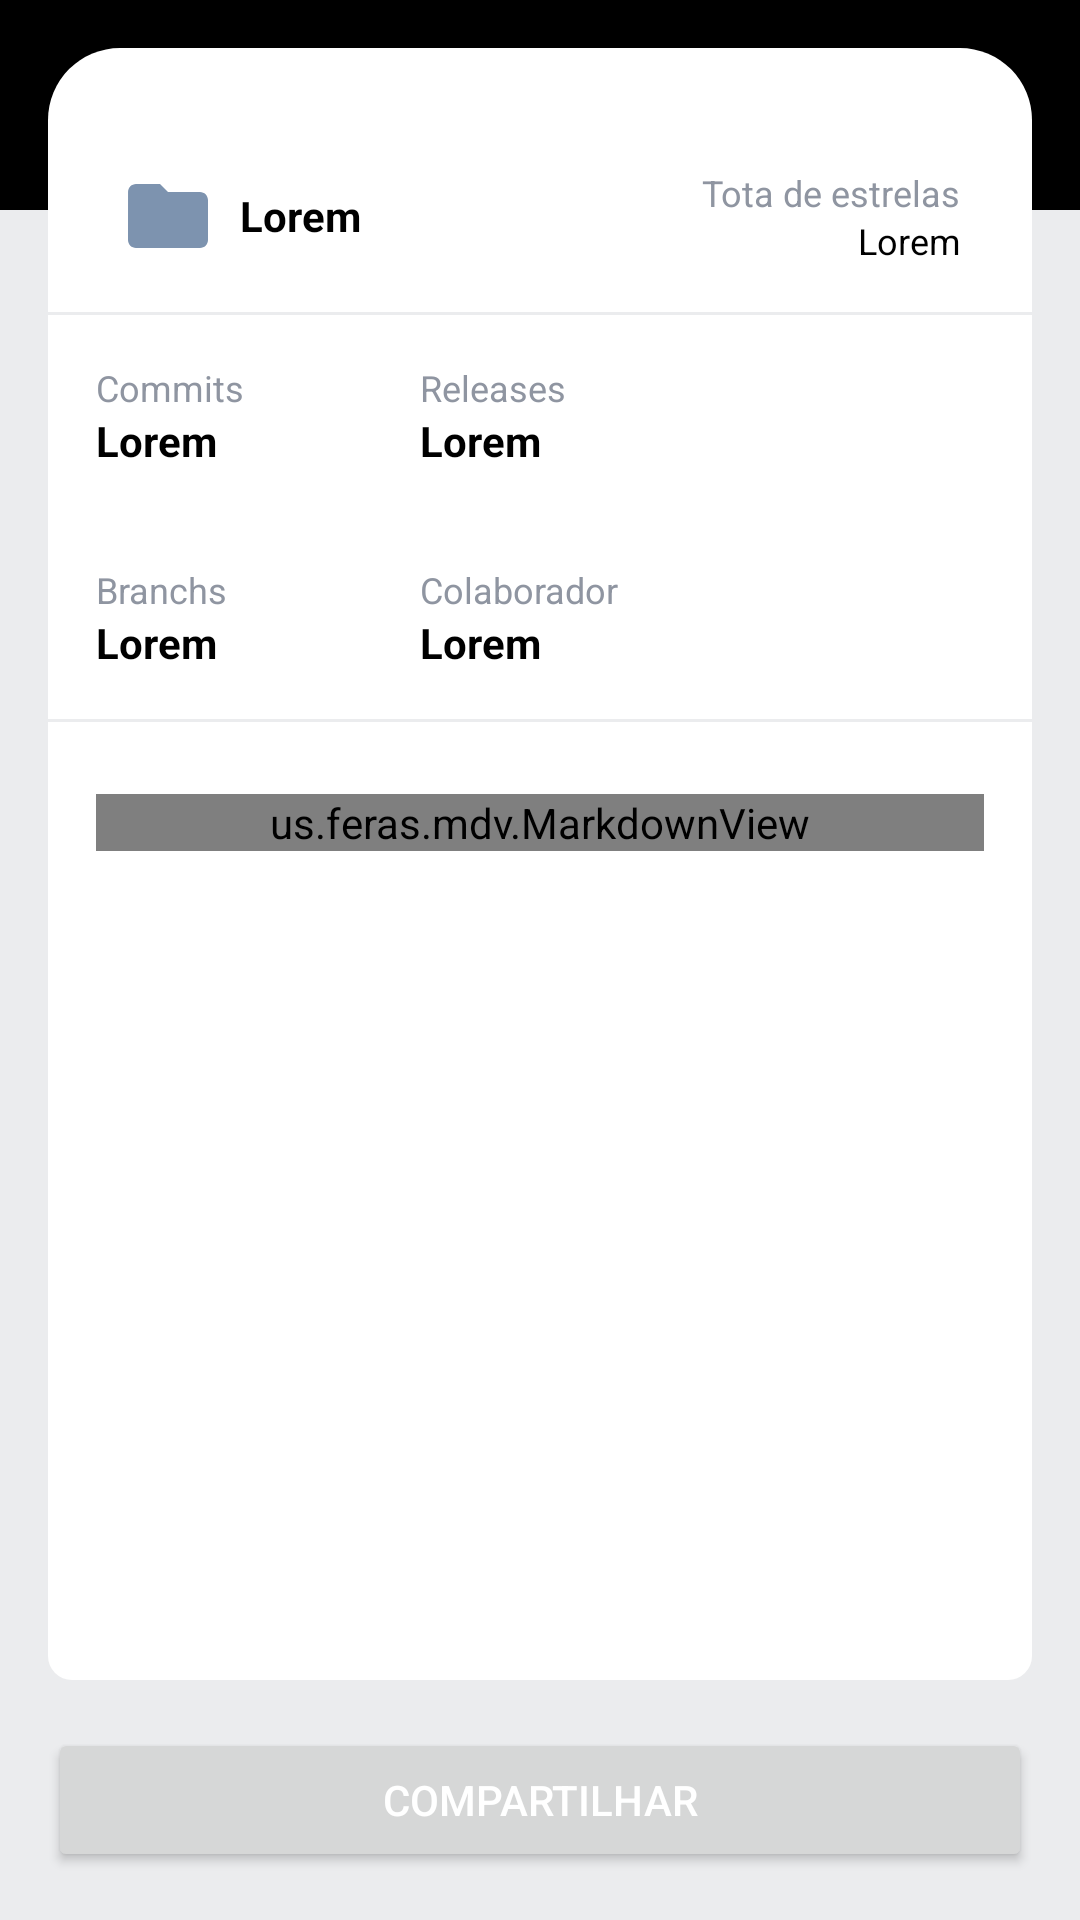

Icon click points for this 1080*1920 phone screenshot, format [x,y]:
folder: [168,216]
